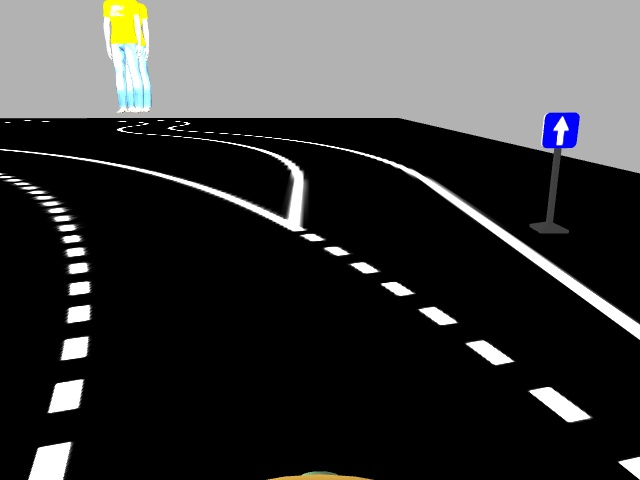OneWay: (540, 110, 577, 147)
